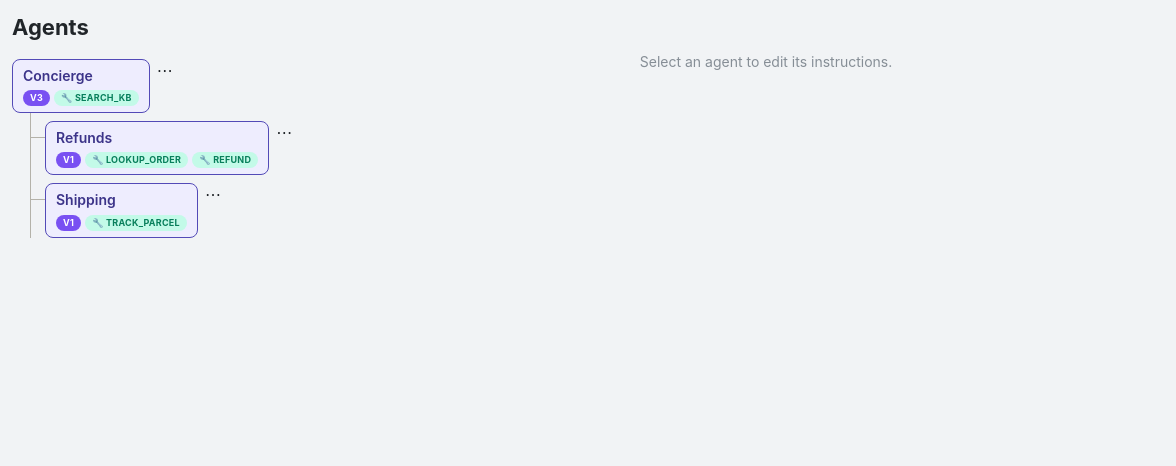
Scenario: AgentsPage tree view › ⋯ Edit instructions navigates to the editor route
This screenshot has width=1176, height=466.
Click the button named "Actions for Shipping".
click(213, 194)  # box [202, 183, 224, 205]
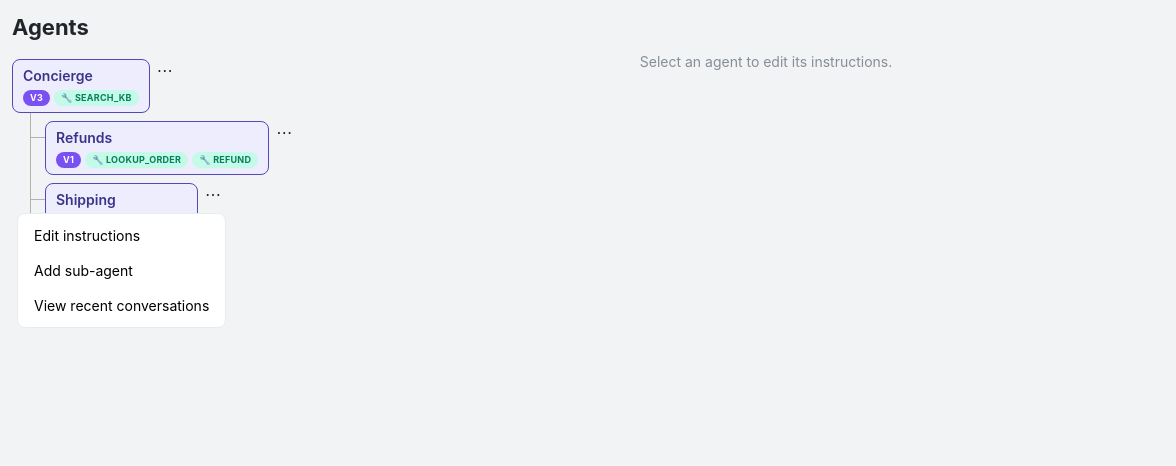
Click the menu item "Edit instructions".
click(122, 236)  # box [22, 218, 221, 253]
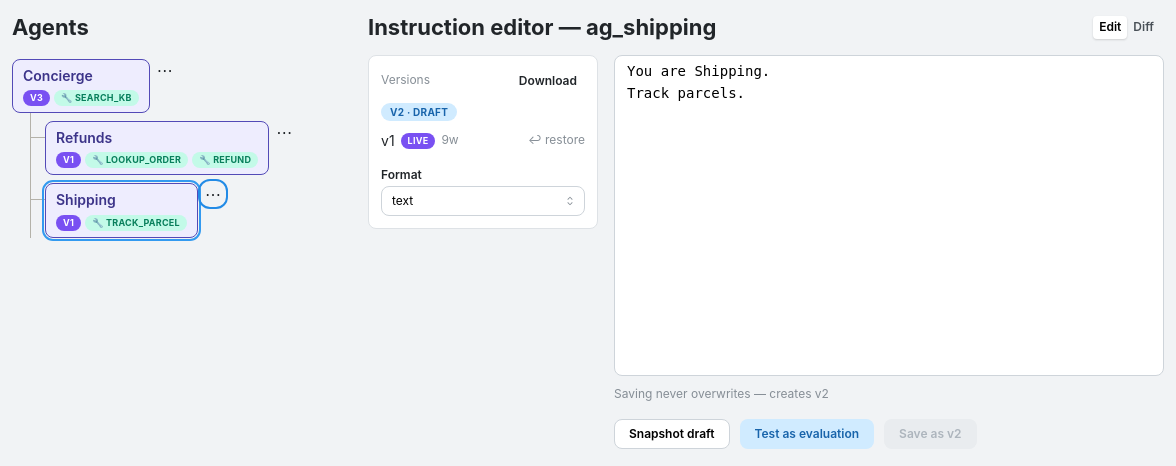
Expected: the heading "Instruction editor — ag_shipping" is shown, [368, 12, 716, 43]
